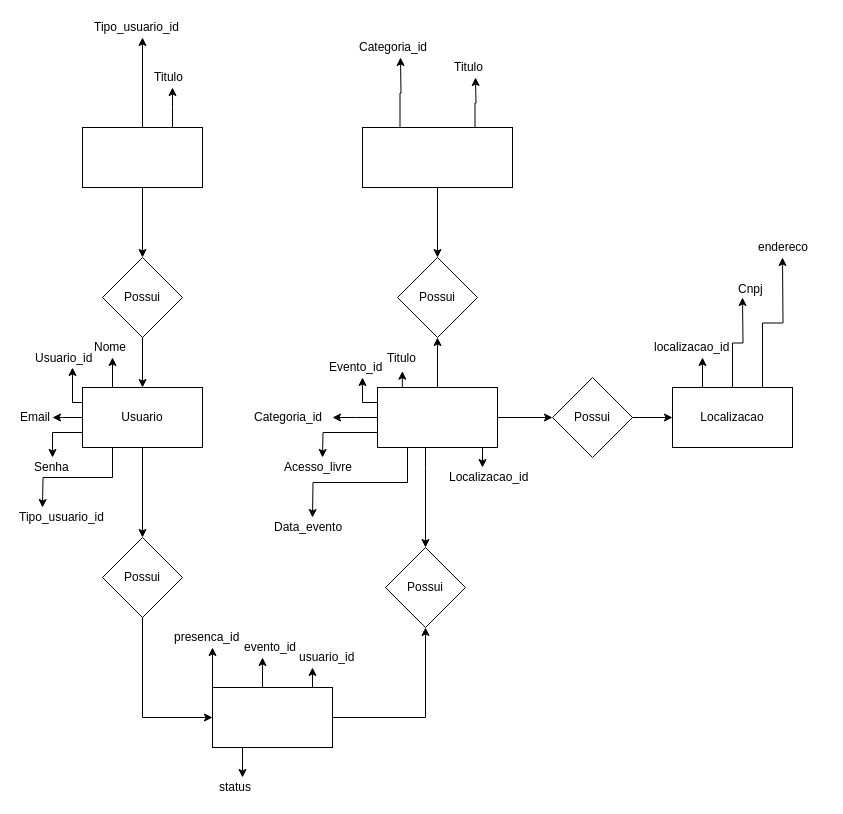
Some shapes in this 843 by 814 pixel diagram are drawn without their labels. Here are the shapes that lost their labels. From the top down, the centre of each, then its label:
the point at 142,157: Tipo_usuario
the point at 437,157: Categoria
the point at 437,417: Evento
the point at 272,717: Presencça
